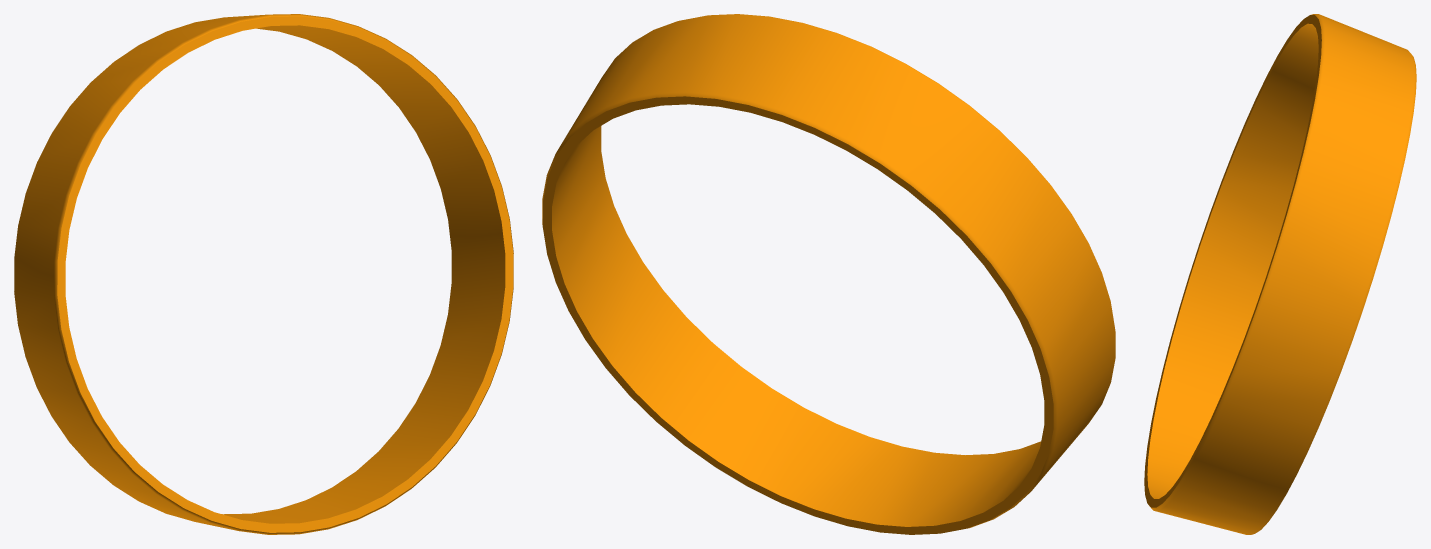
The model's file is EV_CannonStripe.obj.
3 views of the same model, side by side, from view 1: azimuth 30°, elevation 25°; view 2: azimuth 150°, elevation 25°; view 3: azimuth 270°, elevation 25° (orthographic). The views are drawn at different scales.
Visible parts, largest first — view 1: EV_CannonStripe; view 2: EV_CannonStripe; view 3: EV_CannonStripe.
Boxes of the visible parts, x1,y1,x2,y2 form: EV_CannonStripe: (14, 14, 513, 534); EV_CannonStripe: (542, 14, 1115, 534); EV_CannonStripe: (1144, 14, 1416, 534).
Size of the model in its own units: 1.93 by 1.91 by 1.
